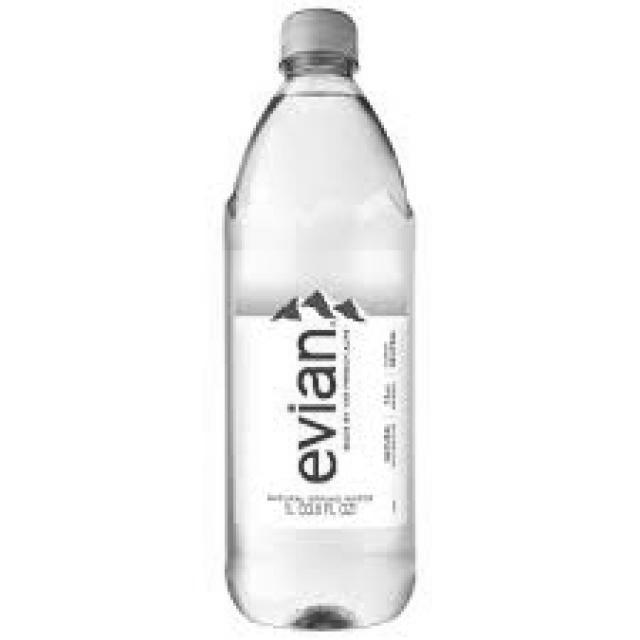bottle: (190, 9, 426, 633)
